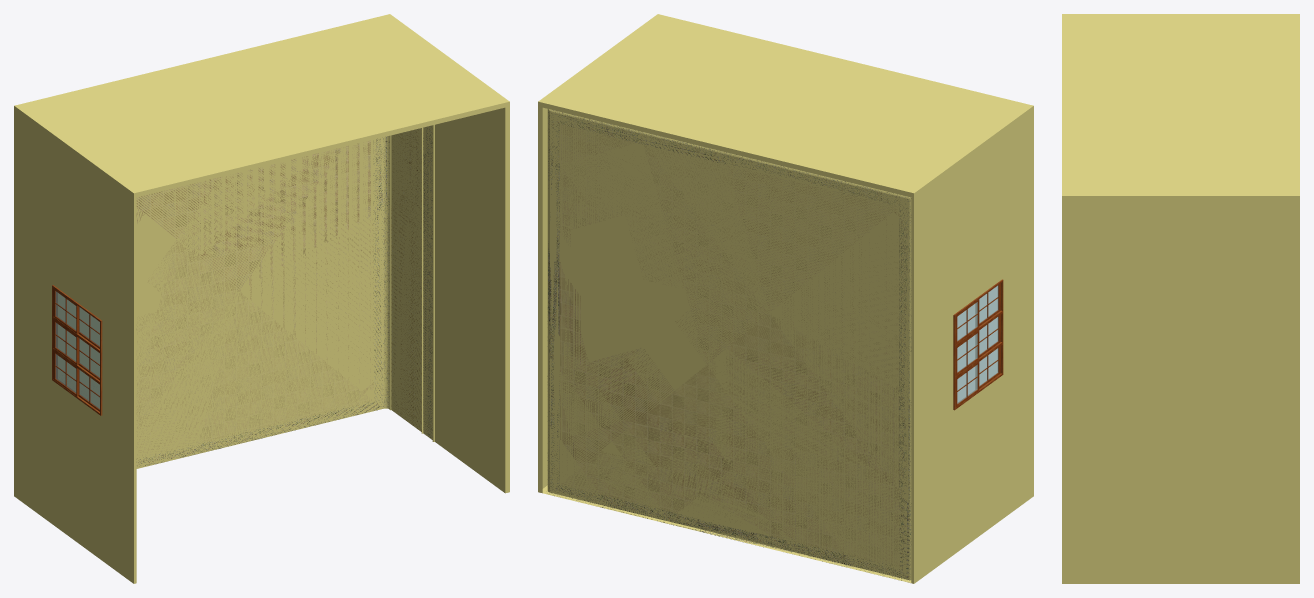
File: room00.obj
The picture shows the model from 3 angles, left to right: view 1: azimuth 30°, elevation 25°; view 2: azimuth 150°, elevation 25°; view 3: azimuth 270°, elevation 25°; orthographic projection.
Parts seen in each view (by area): view 1: room00; view 2: room00; view 3: room00.
Part boxes in pixels (left/top/right/bottom): room00: left=14, top=14, right=509, bottom=583; room00: left=538, top=14, right=1033, bottom=583; room00: left=1062, top=14, right=1299, bottom=583.
Size of the model in its own units: 246 by 243 by 135.
6 materials, 4 textured.
